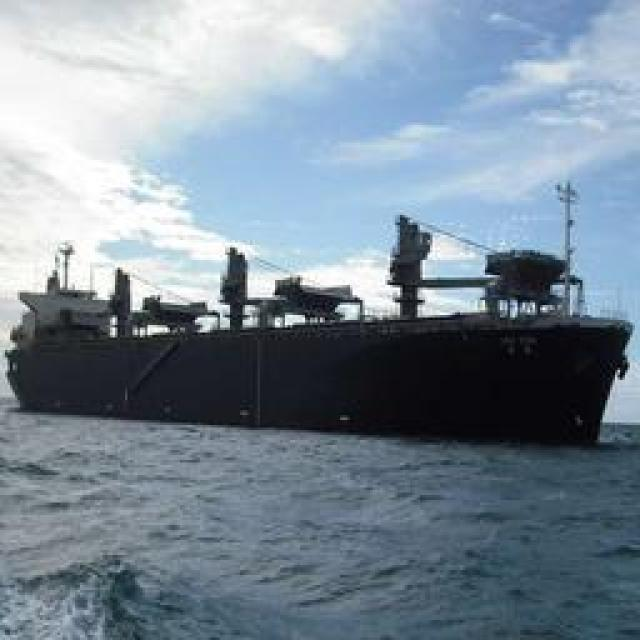Ship: (5, 230, 632, 443)
